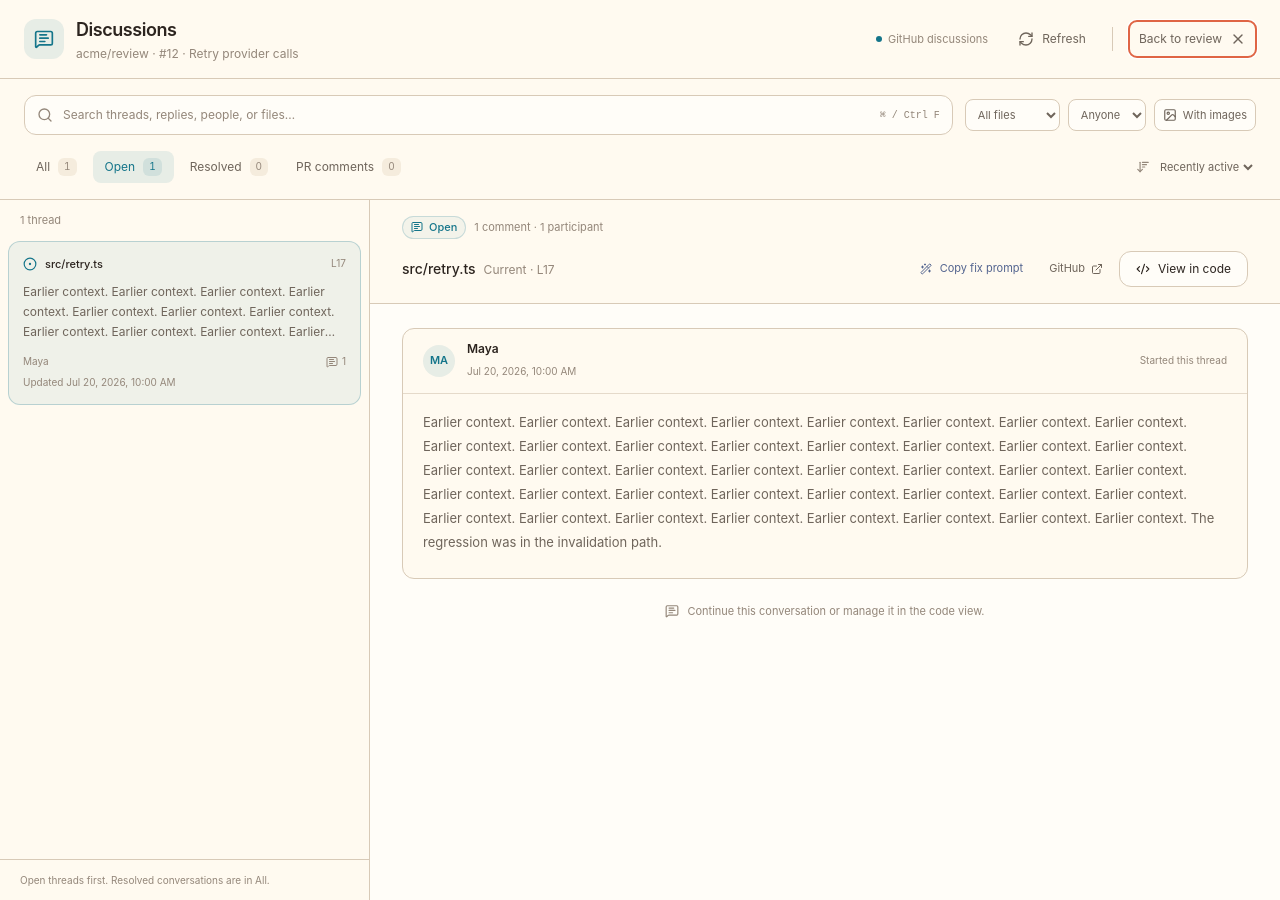
Test: ReviewDiscussionsPanel › uses a matching excerpt from deep inside a long reply
Type "invalidation" into the search field at (466, 115), box [63,107,870,123]
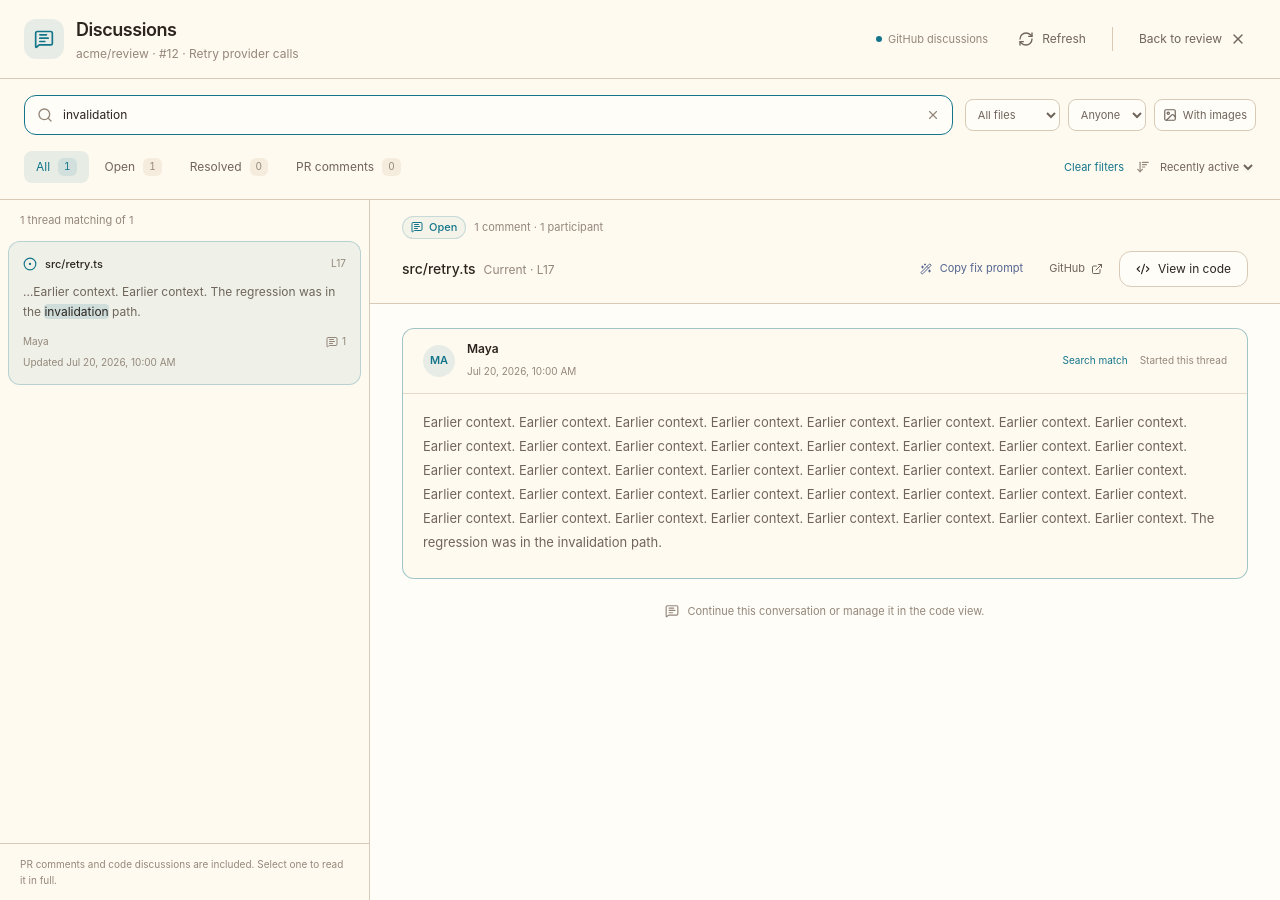
Check: the text "invalidation" is shown, box [44,304,109,319]
Check: the button with aria-label "Read discussion in src/retry.ts at line 17" shows "…", box [8,240,361,385]
